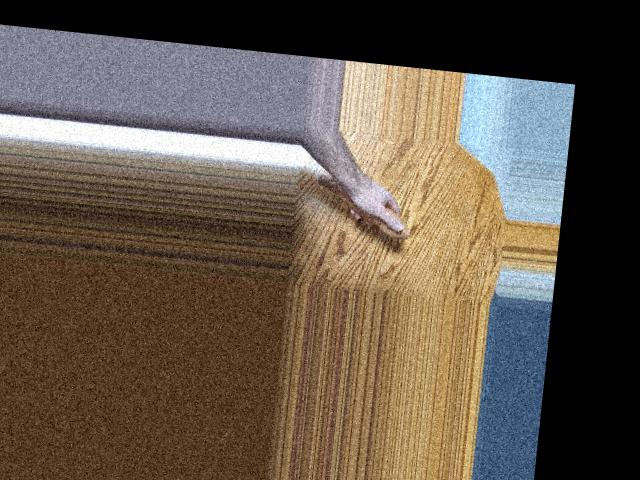sweet_potato: (296, 171, 417, 241)
